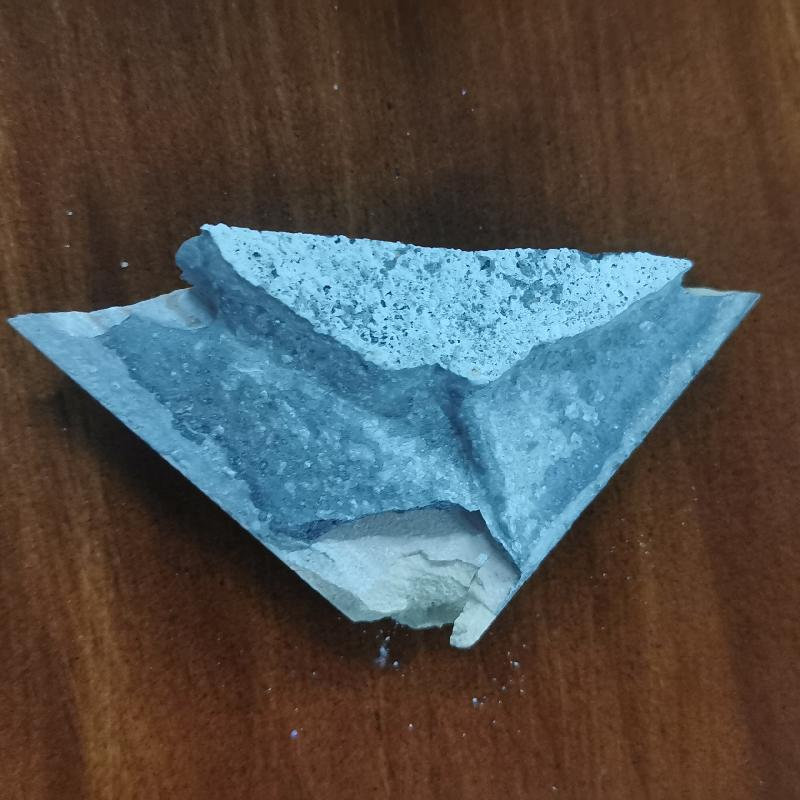tile: (0, 216, 764, 654)
